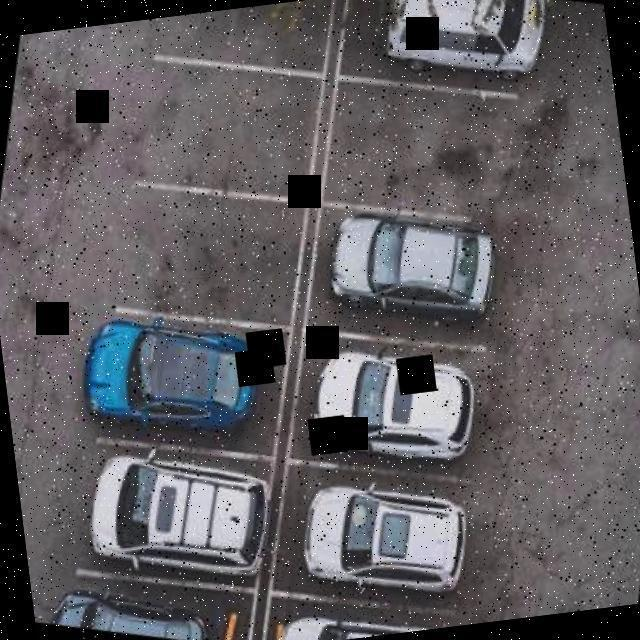car: (277, 300, 524, 512), (59, 421, 294, 610), (274, 450, 501, 630), (64, 276, 280, 455), (311, 186, 531, 357), (374, 0, 569, 108), (41, 556, 227, 640), (262, 575, 468, 640)
free: (314, 59, 542, 247), (126, 36, 330, 210), (120, 176, 316, 336), (155, 0, 341, 86)
